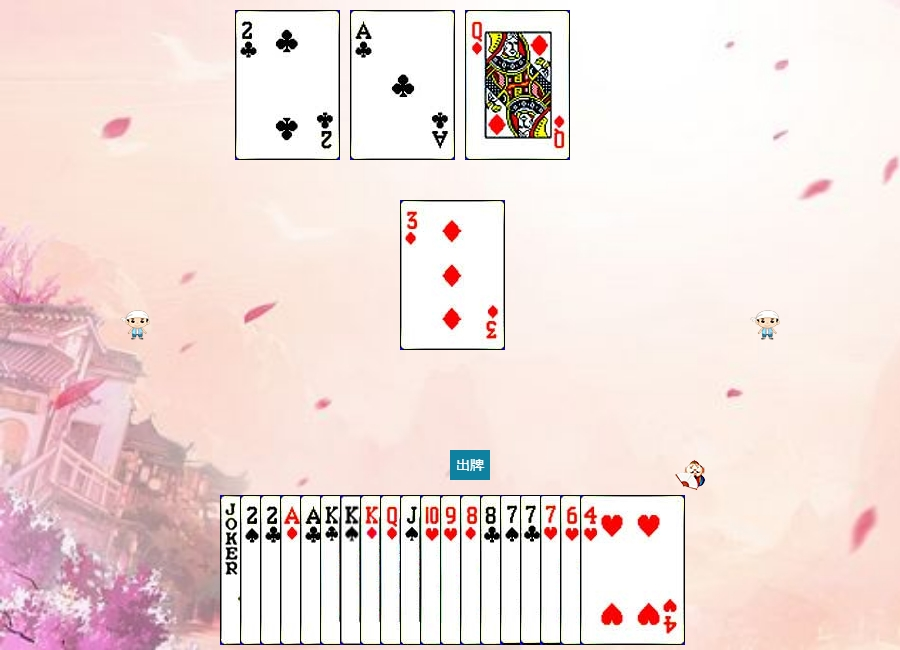10~3: (420, 495, 525, 645)
11~4: (400, 495, 505, 645)
12~1: (465, 10, 570, 160), (380, 495, 485, 645)
13~1: (360, 495, 465, 645)
13~2: (320, 495, 425, 645)
13~4: (340, 495, 445, 645)
14~1: (280, 495, 385, 645)
14~2: (350, 10, 455, 160), (300, 495, 405, 645)
15~2: (235, 10, 340, 160), (260, 495, 365, 645)
15~4: (240, 495, 345, 645)
17~3: (220, 495, 325, 645)
3~1: (400, 200, 505, 350)
4~3: (580, 495, 685, 645)
6~3: (560, 495, 665, 645)
7~2: (520, 495, 625, 645)
7~3: (540, 495, 645, 645)
7~4: (500, 495, 605, 645)
8~1: (460, 495, 565, 645)
8~2: (480, 495, 585, 645)
9~3: (440, 495, 545, 645)
